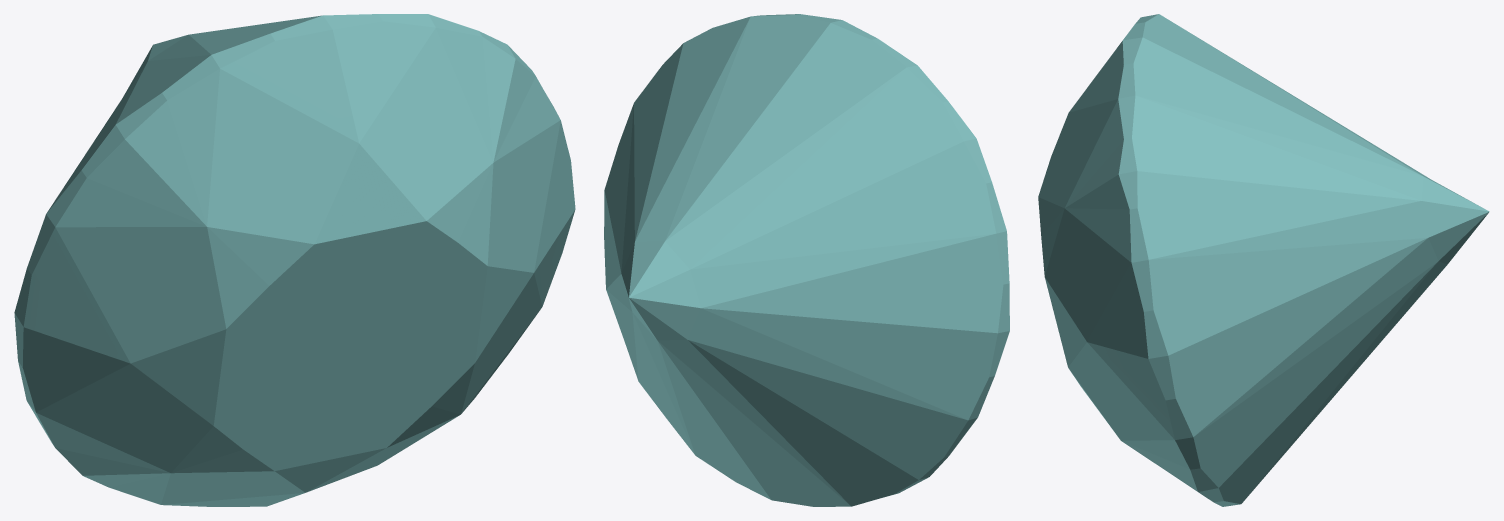
The model's file is BL1_8shapes_Round_Classic_Stone.001 3.glb.
3 renders of one model, left to right at view 1: azimuth 30°, elevation 25°; view 2: azimuth 150°, elevation 25°; view 3: azimuth 270°, elevation 25°, orthographic. The views are drawn at different scales.
Visible parts, largest first — view 1: BL1_8shapes_Round_Classic_Stone.001; view 2: BL1_8shapes_Round_Classic_Stone.001; view 3: BL1_8shapes_Round_Classic_Stone.001.
Boxes of the visible parts, x1,y1,x2,y2 form: BL1_8shapes_Round_Classic_Stone.001: (14,14,575,506); BL1_8shapes_Round_Classic_Stone.001: (604,14,1009,506); BL1_8shapes_Round_Classic_Stone.001: (1038,14,1489,506).
Bounding box in the file's own units: 0.452 × 0.446 × 0.4084.
